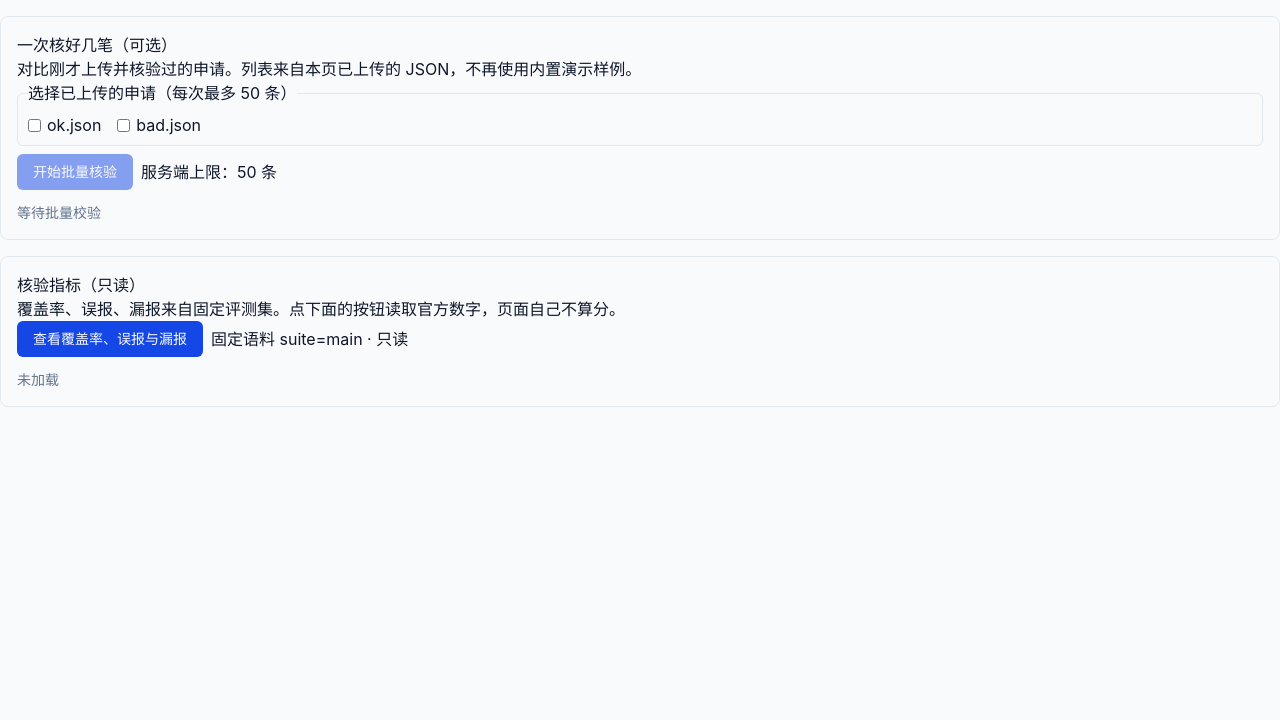
Test: DemoBatchSummaryPanel › renders a partial batch: partial outcome, fixed generic failed-item error, totals exclude failed items
Step 1. Click the checkbox labelled "ok.json" → [34, 125], box [28,118,41,132]
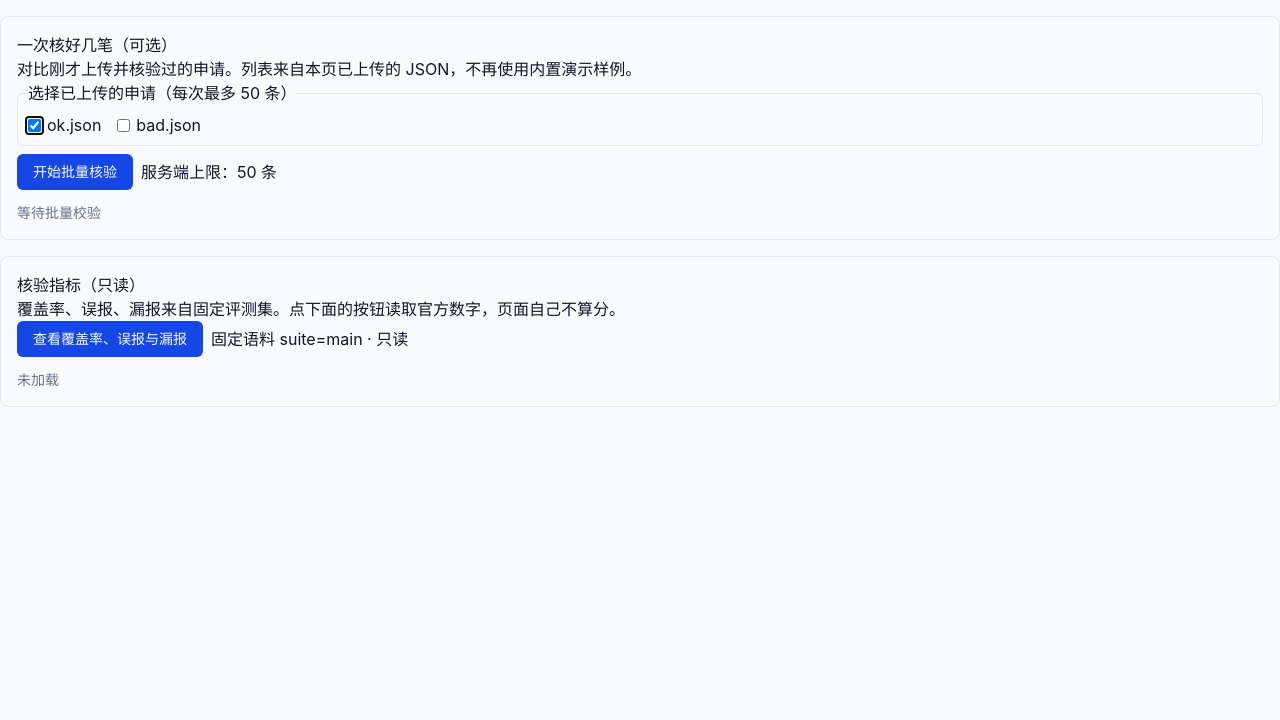
Step 2. Click the checkbox labelled "bad.json" → [124, 125], box [117,118,130,132]
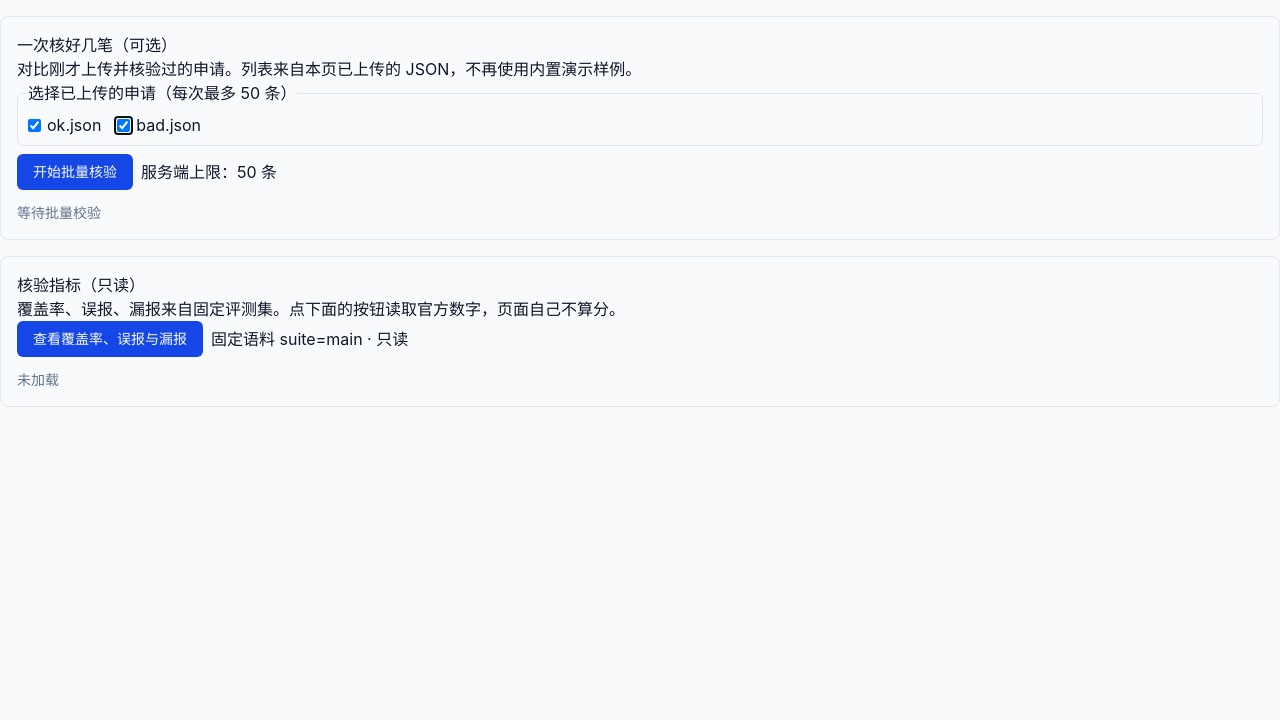
Step 3. Click the button with test id "demo-batch-run-button" → [75, 172], box [17,154,133,190]
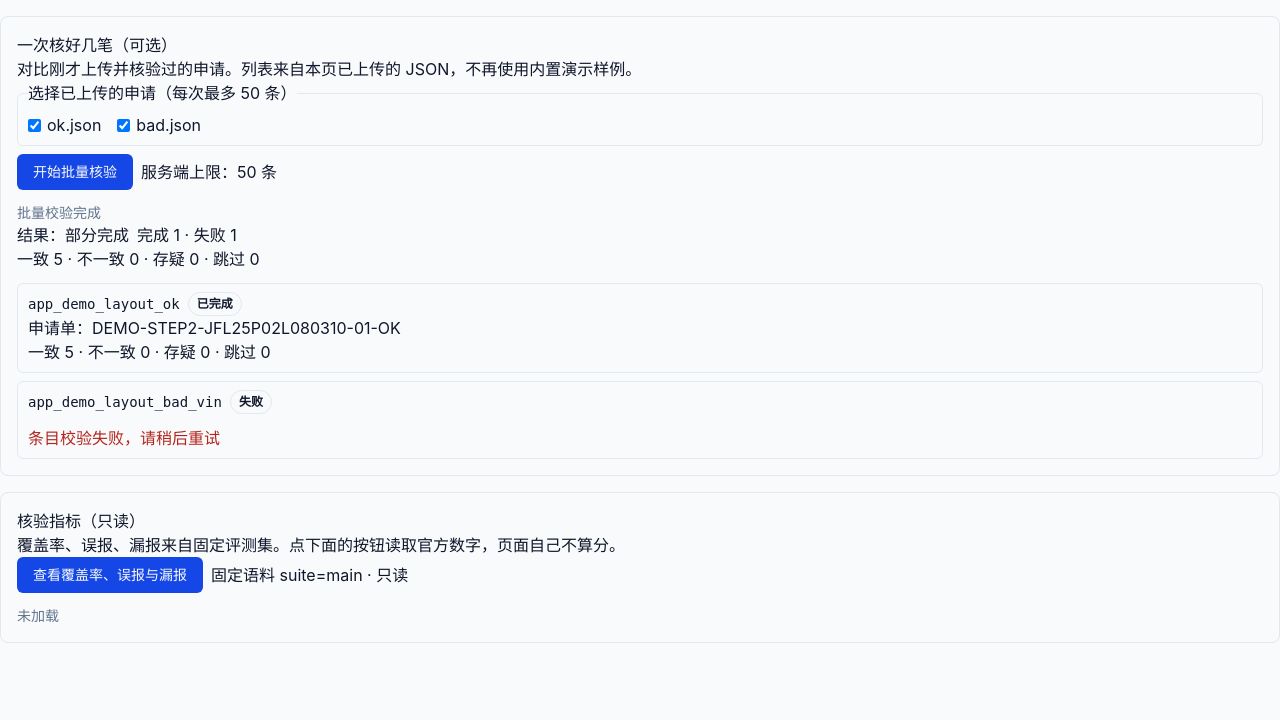
Expected: the text with test id "demo-batch-outcome" shows "部分完成", [65,225,129,245]
Expected: the text with test id "demo-batch-totals" shows "一致 5", [17,249,260,269]
